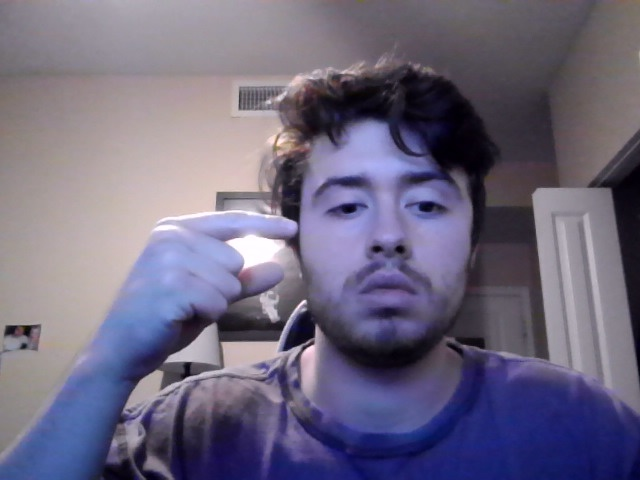g: (84, 208, 300, 382)
